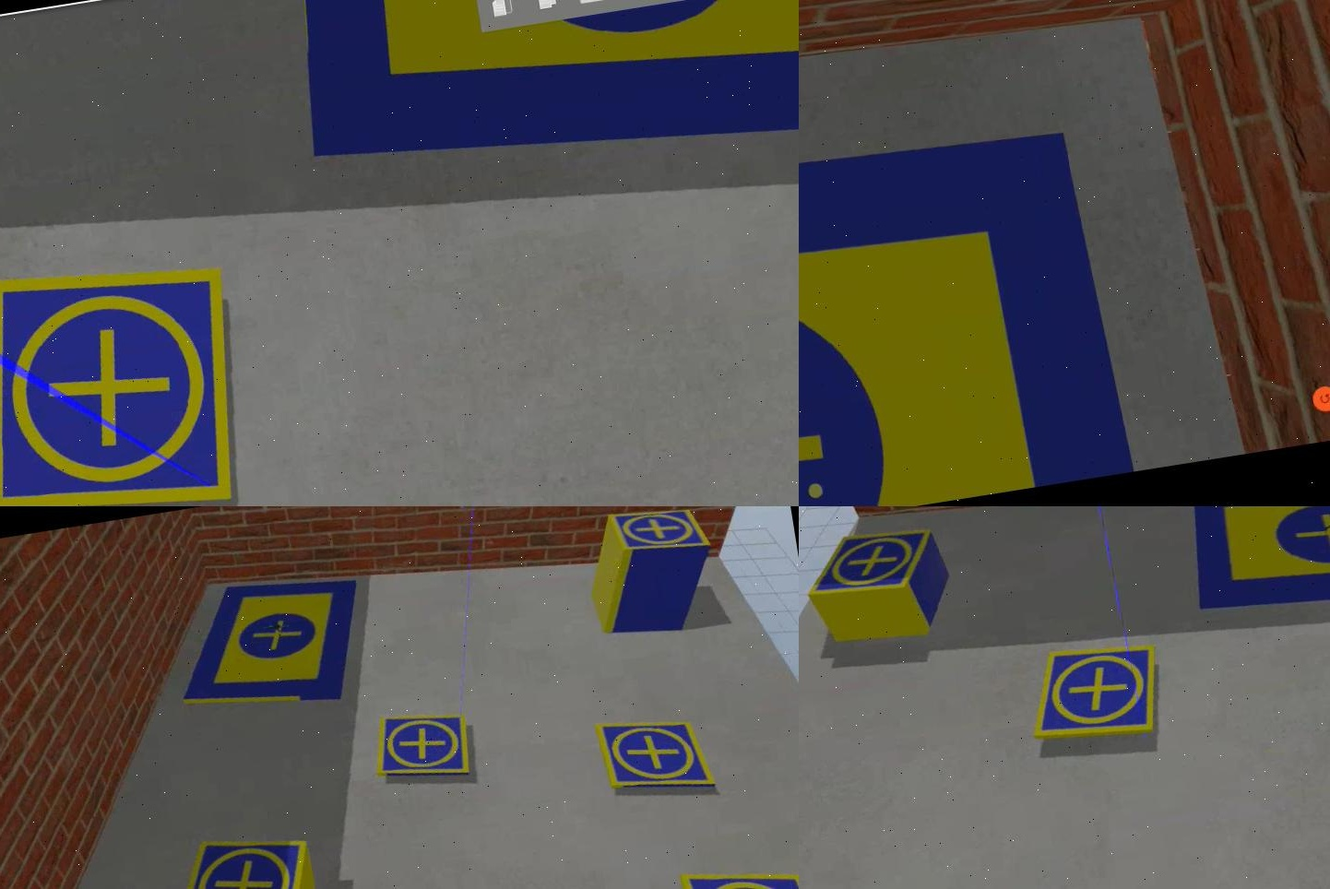large_base: (797, 97, 1134, 506), (279, 1, 797, 218), (164, 568, 370, 725), (1179, 506, 1328, 634)
small_base: (0, 245, 254, 506), (1020, 645, 1160, 757), (797, 525, 938, 610), (595, 708, 715, 806), (160, 826, 320, 889), (370, 709, 479, 793), (605, 506, 710, 563)
